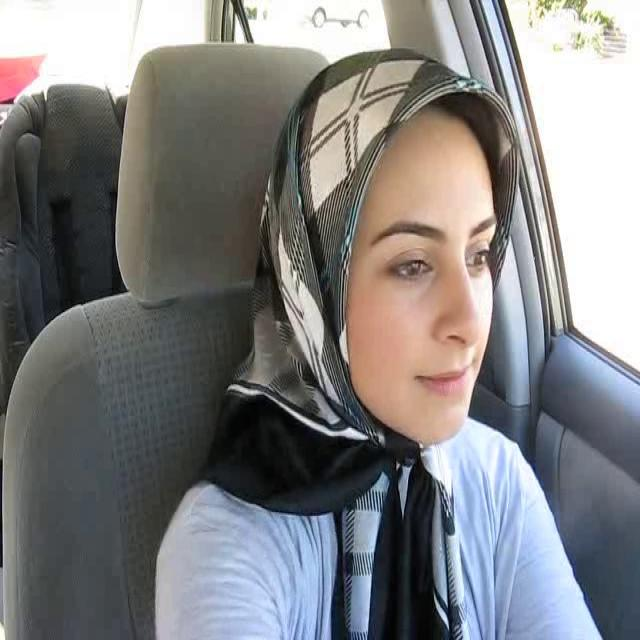close: (410, 354, 481, 398)
